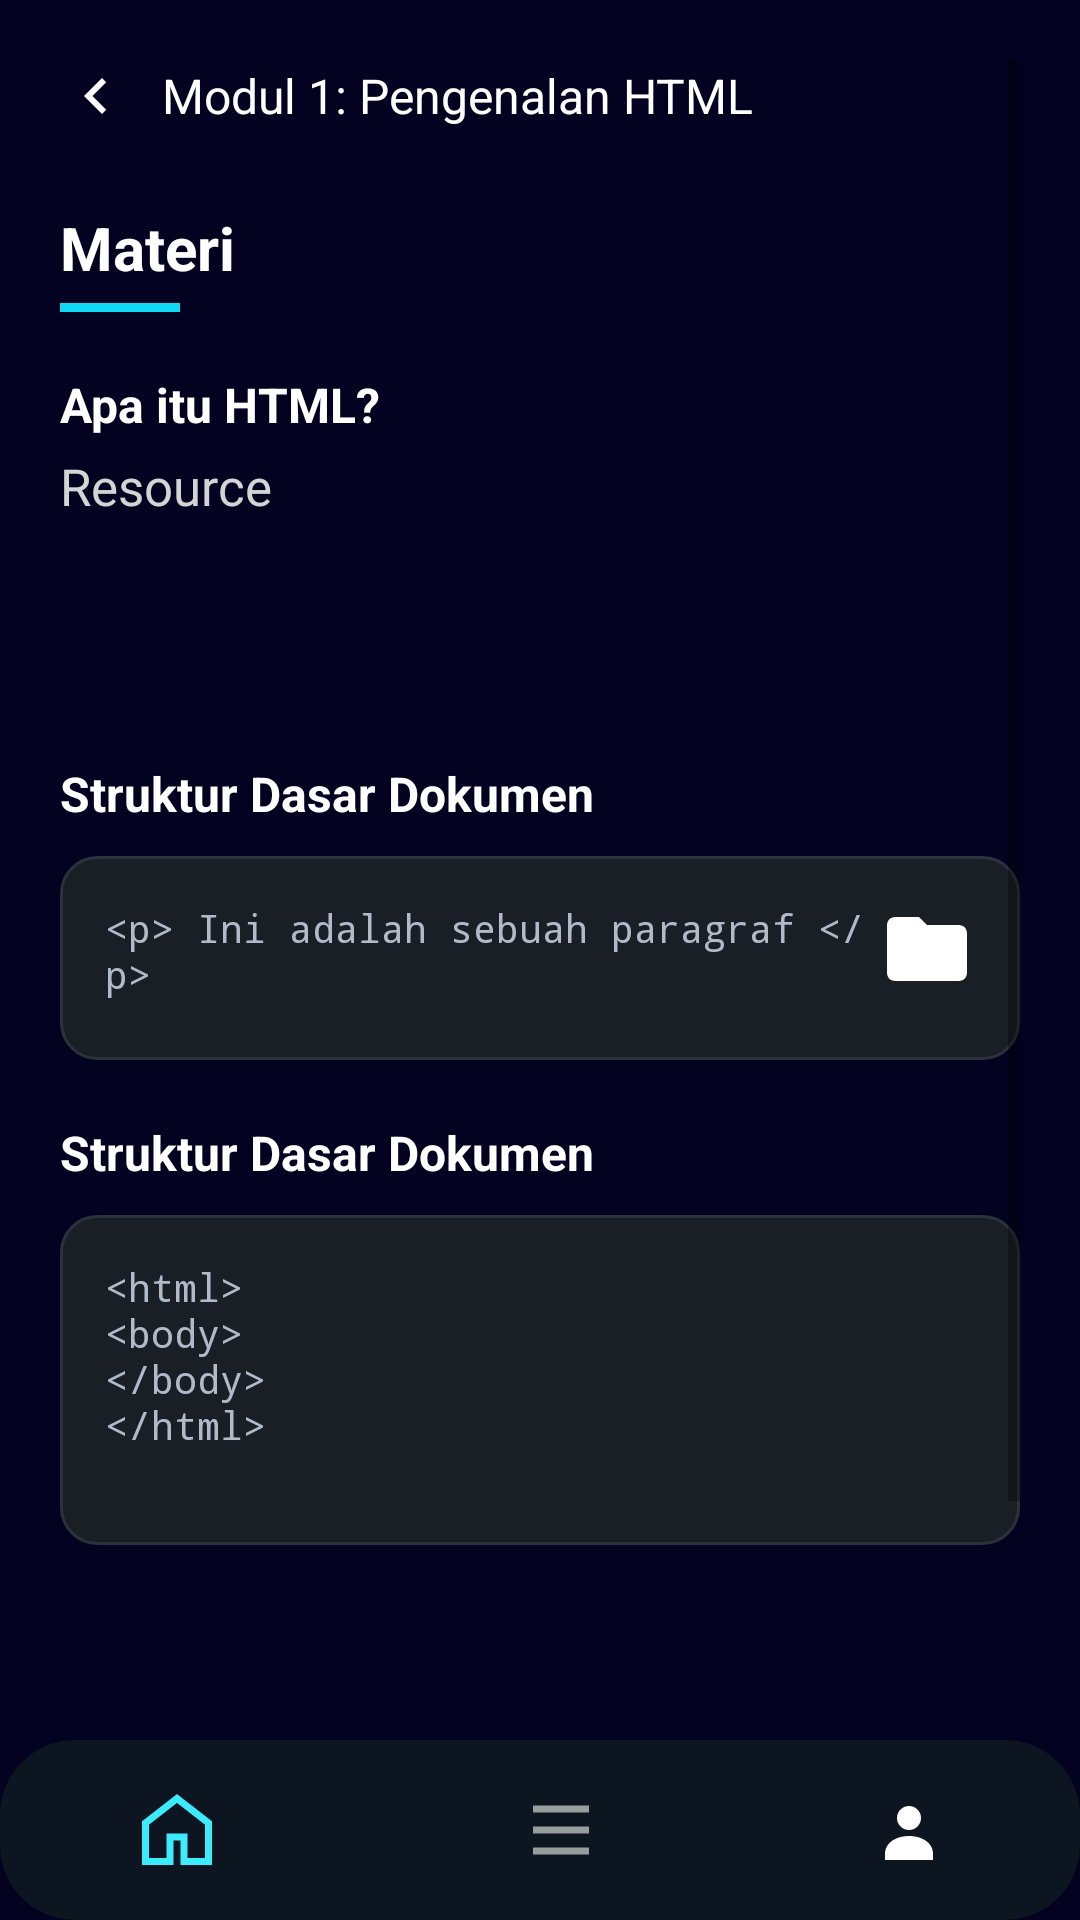

Locate icon controls on the screen. Image size 1080 x 1920, boxes as bbox=(x1, y1, x2, y2).
back: bbox=(84, 78, 106, 114)
courses: bbox=(533, 1805, 589, 1855)
folder: bbox=(887, 917, 967, 981)
home: bbox=(142, 1794, 212, 1865)
profile: bbox=(885, 1806, 933, 1860)
